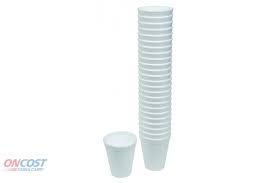Plastic cup: (80, 5, 204, 183)
